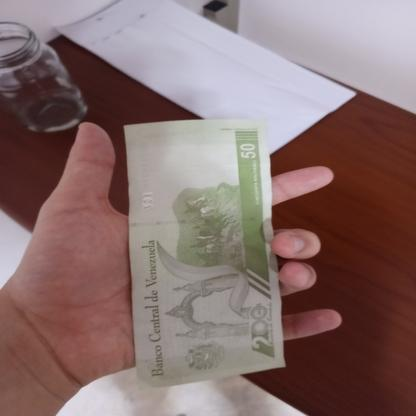fifty-back-vef: (123, 118, 285, 388)
